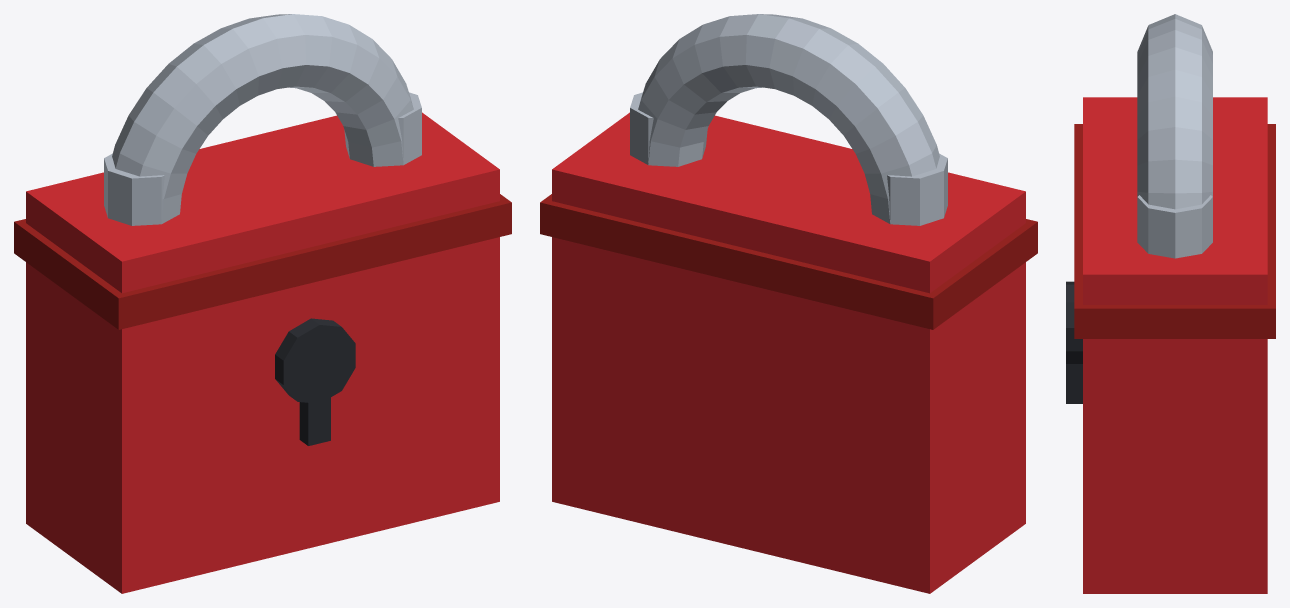
The model's file is item_weak.glb.
The picture shows the model from 3 angles, left to right: view 1: azimuth 30°, elevation 25°; view 2: azimuth 150°, elevation 25°; view 3: azimuth 270°, elevation 25°; orthographic projection. The views are drawn at different scales.
Visible parts, largest first — view 1: item_mesh; view 2: item_mesh; view 3: item_mesh.
Part boxes in pixels (x1,y1,x2,y2): item_mesh: [14, 14, 511, 593]; item_mesh: [540, 14, 1037, 593]; item_mesh: [1066, 14, 1275, 593].
Bounding box in the file's own units: 0.5824 × 0.7 × 0.28.
1 material, 1 textured.
